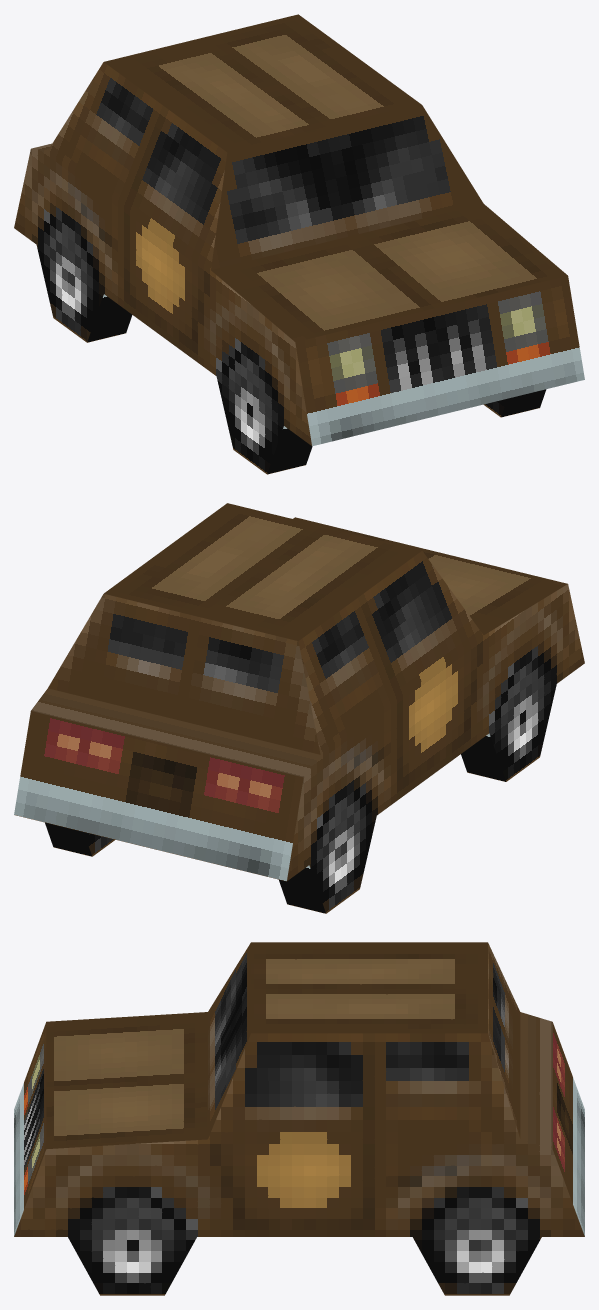
The model's file is jeepprop.glb.
3 views of the same model, one above another, from view 1: azimuth 30°, elevation 25°; view 2: azimuth 150°, elevation 25°; view 3: azimuth 270°, elevation 25° (orthographic). The views are drawn at different scales.
Parts seen in each view (by area): view 1: jeep; view 2: jeep; view 3: jeep.
Boxes of the visible parts, x1,y1,x2,y2 form: jeep: [14, 14, 584, 474]; jeep: [14, 503, 584, 913]; jeep: [14, 942, 584, 1295].
Bounding box in the file's own units: 2.02 × 1.8 × 3.82.
1 material, 1 textured.
